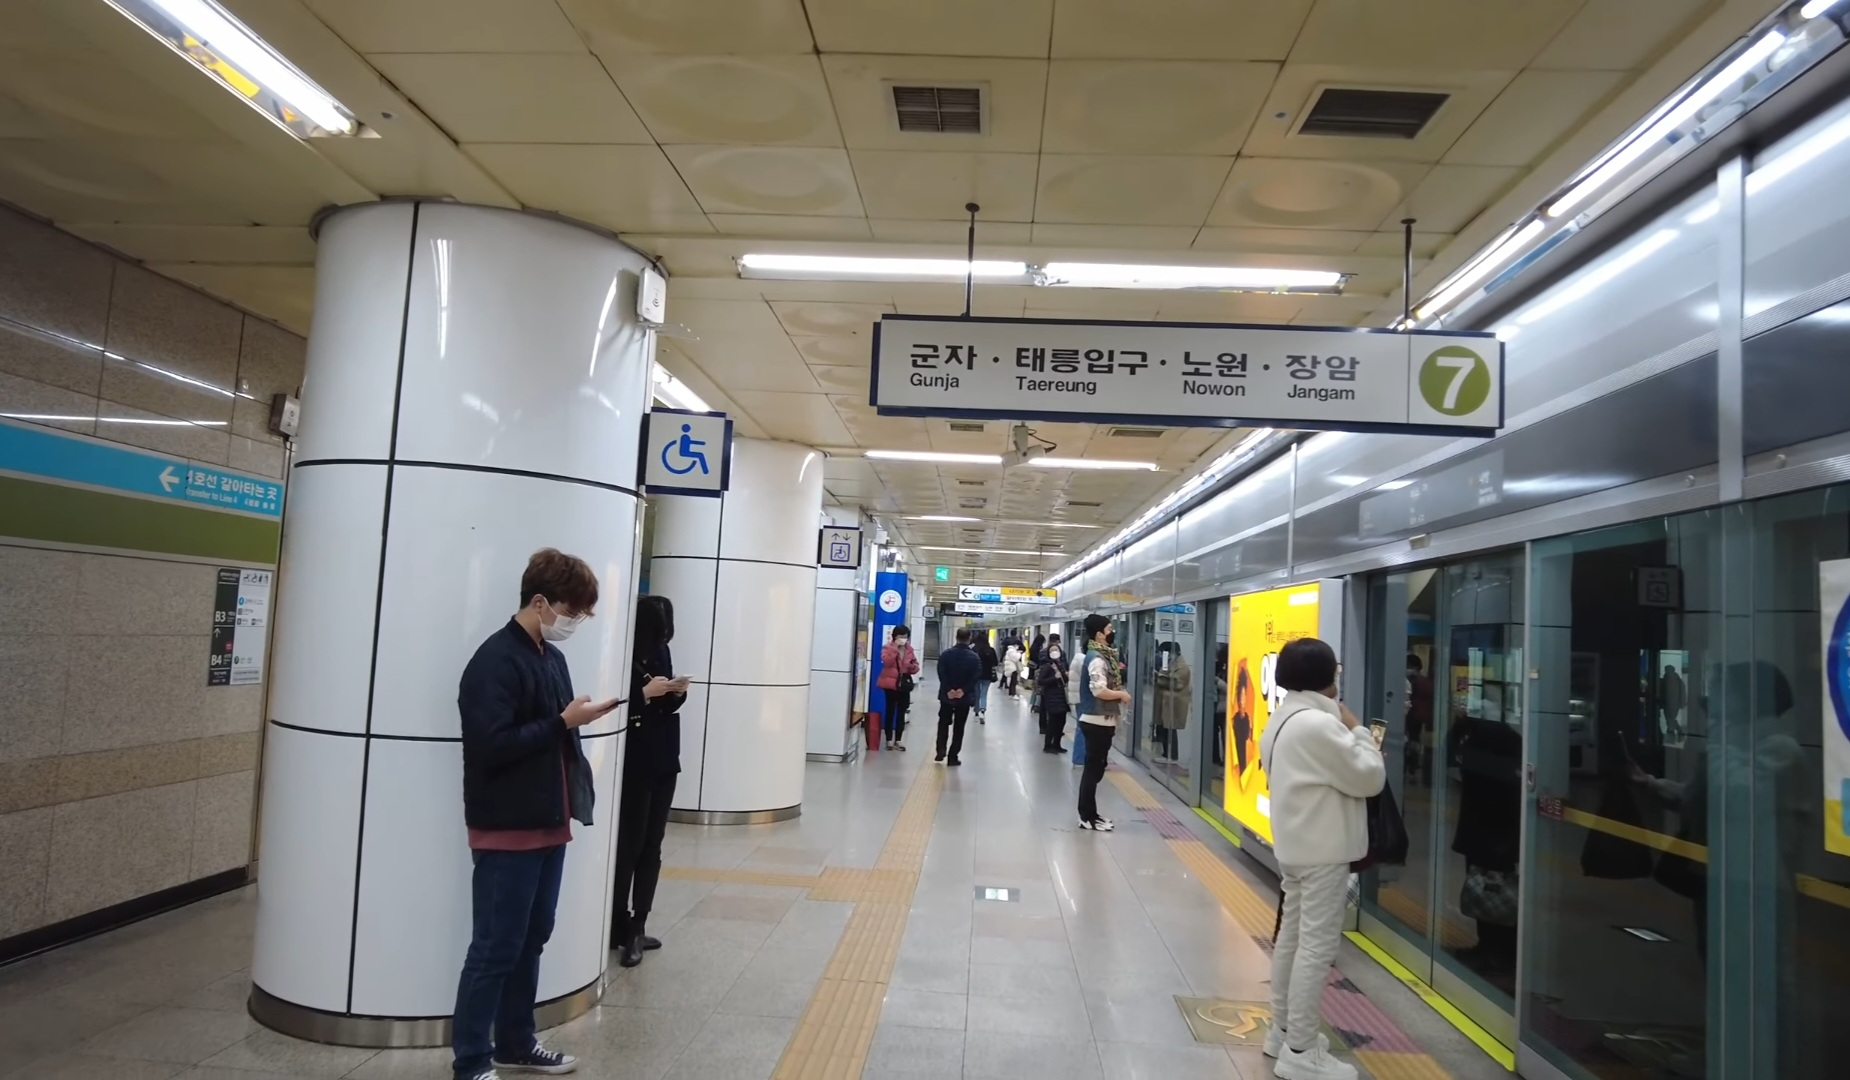signBoard: (874, 307, 1508, 436)
